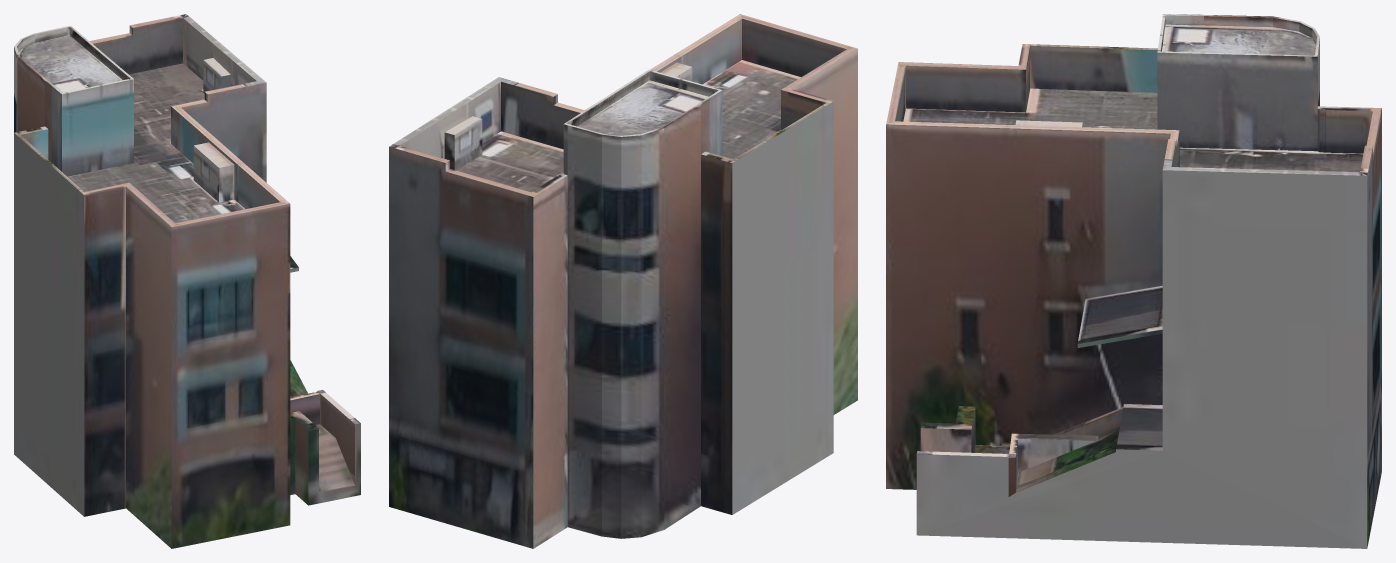
3 views of the same model, side by side, from view 1: azimuth 30°, elevation 25°; view 2: azimuth 150°, elevation 25°; view 3: azimuth 270°, elevation 25° (orthographic). The views are drawn at different scales.
Parts seen in each view (by area): view 1: B280764041201063A0; view 2: B280764041201063A0; view 3: B280764041201063A0.
Boxes of the visible parts, x1,y1,x2,y2 form: B280764041201063A0: (14,14,360,548); B280764041201063A0: (389,14,857,548); B280764041201063A0: (886,14,1381,548).
Bounding box in the file's own units: 8.81 × 12.15 × 13.12.
Materials: 1 (1 with a texture image).
